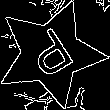P_SE: (20, 23, 81, 85)
